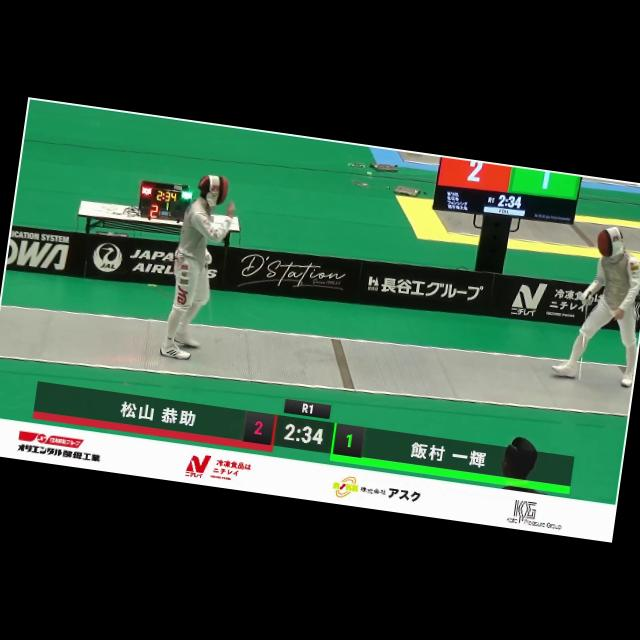blade: (567, 294, 602, 388)
